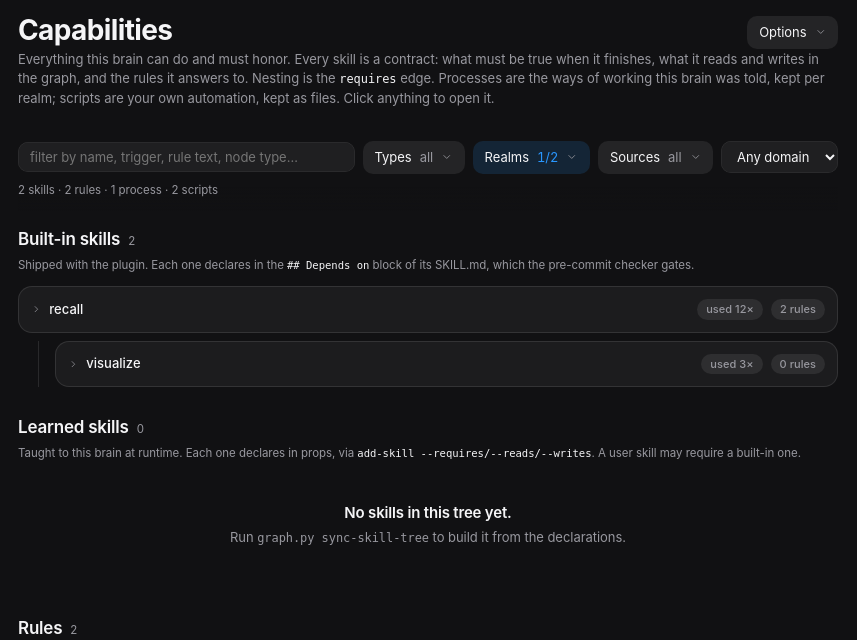
Capabilities › opens a skill and shows its graph surface and dependencies
Click the button "recall used 12× 2 rules". click: (66, 309)
box: [31, 287, 825, 332]
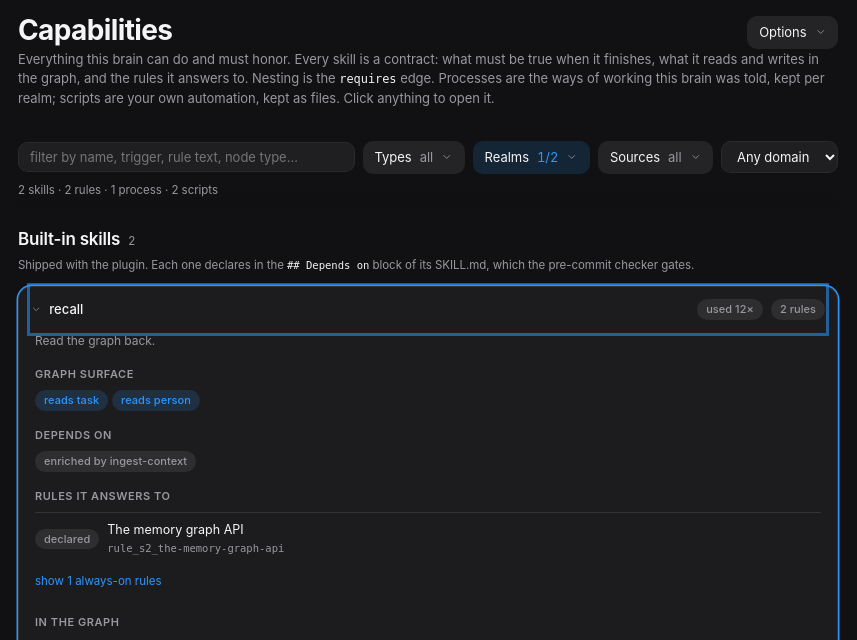
Now the heading "Graph surface" is shown, box [35, 367, 134, 381]
Now the text "reads task" is shown, box [35, 390, 108, 411]
Now the text "enriched by ingest-context" is shown, box [35, 451, 196, 472]
